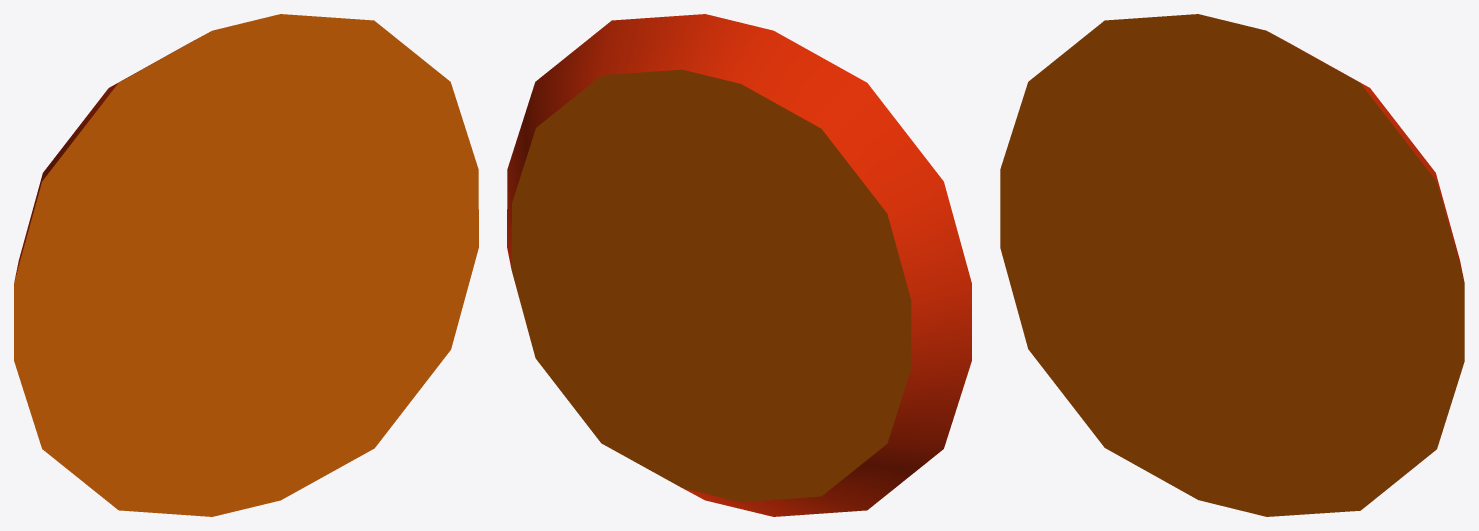
The model's file is mesh_tomato_slice_stage02.fbx.
The picture shows the model from 3 angles, left to right: view 1: azimuth 30°, elevation 25°; view 2: azimuth 150°, elevation 25°; view 3: azimuth 330°, elevation 25°; orthographic projection.
Parts seen in each view (by area): view 1: mesh_tomato_slice_stage02; view 2: mesh_tomato_slice_stage02; view 3: mesh_tomato_slice_stage02.
Part boxes in pixels (<box>): mesh_tomato_slice_stage02: <box>14,14,478,516</box>; mesh_tomato_slice_stage02: <box>507,14,971,516</box>; mesh_tomato_slice_stage02: <box>1000,14,1464,516</box>.
Size of the model in its own units: 0.1709 by 0.1709 by 0.0177.
